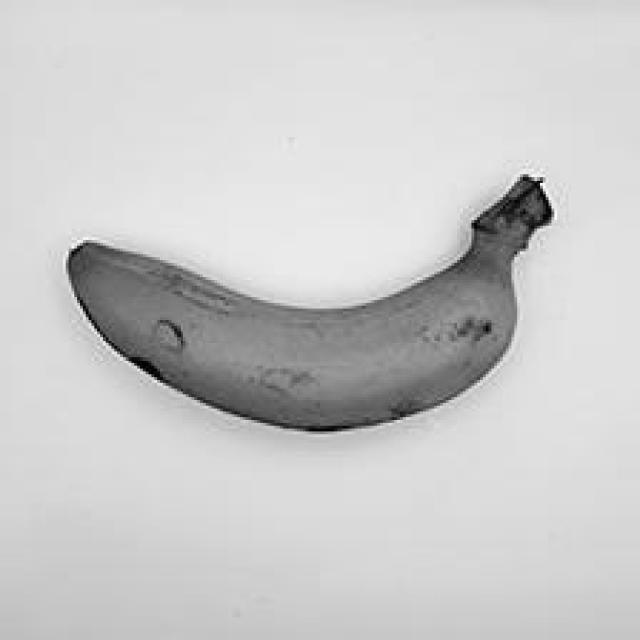Raw: (56, 160, 565, 439)
